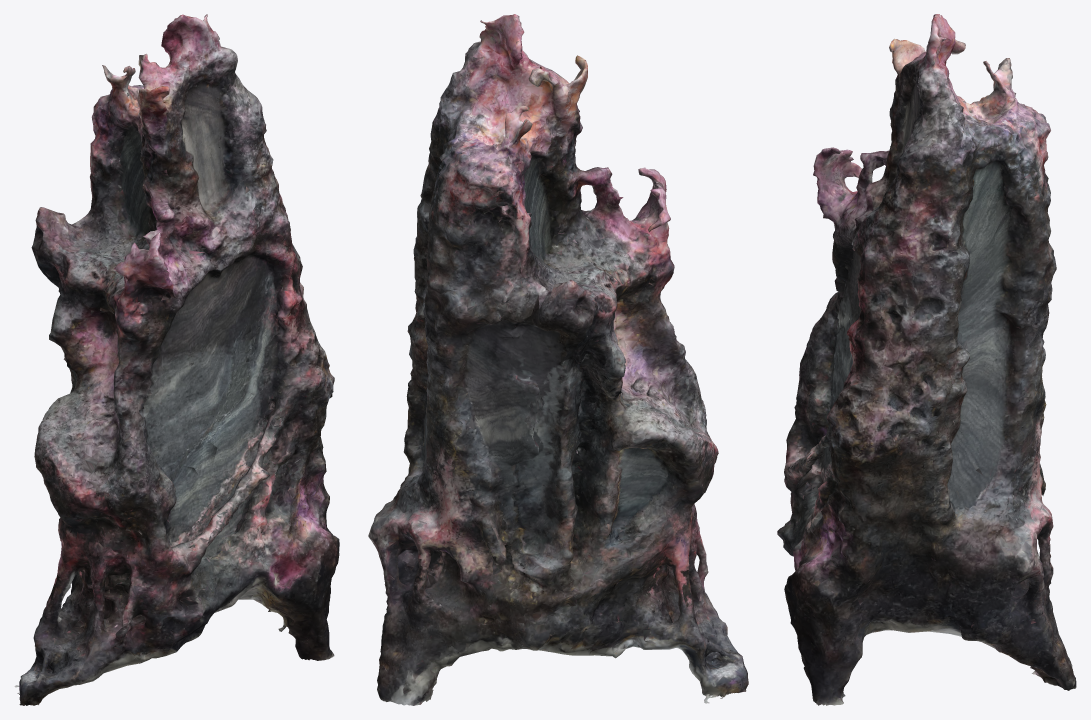
The model's file is 02_ahn.glb.
3 views of the same model, side by side, from view 1: azimuth 30°, elevation 25°; view 2: azimuth 150°, elevation 25°; view 3: azimuth 270°, elevation 25° (orthographic). The views are drawn at different scales.
Parts seen in each view (by area): view 1: texturedMesh.002; view 2: texturedMesh.002; view 3: texturedMesh.002.
Boxes of the visible parts, <box> form: texturedMesh.002: <box>14,14,339,705</box>; texturedMesh.002: <box>368,14,748,705</box>; texturedMesh.002: <box>777,14,1076,705</box>.
Bounding box in the file's own units: 0.9596 × 1.86 × 0.7828.
Materials: 1 (1 with a texture image).
